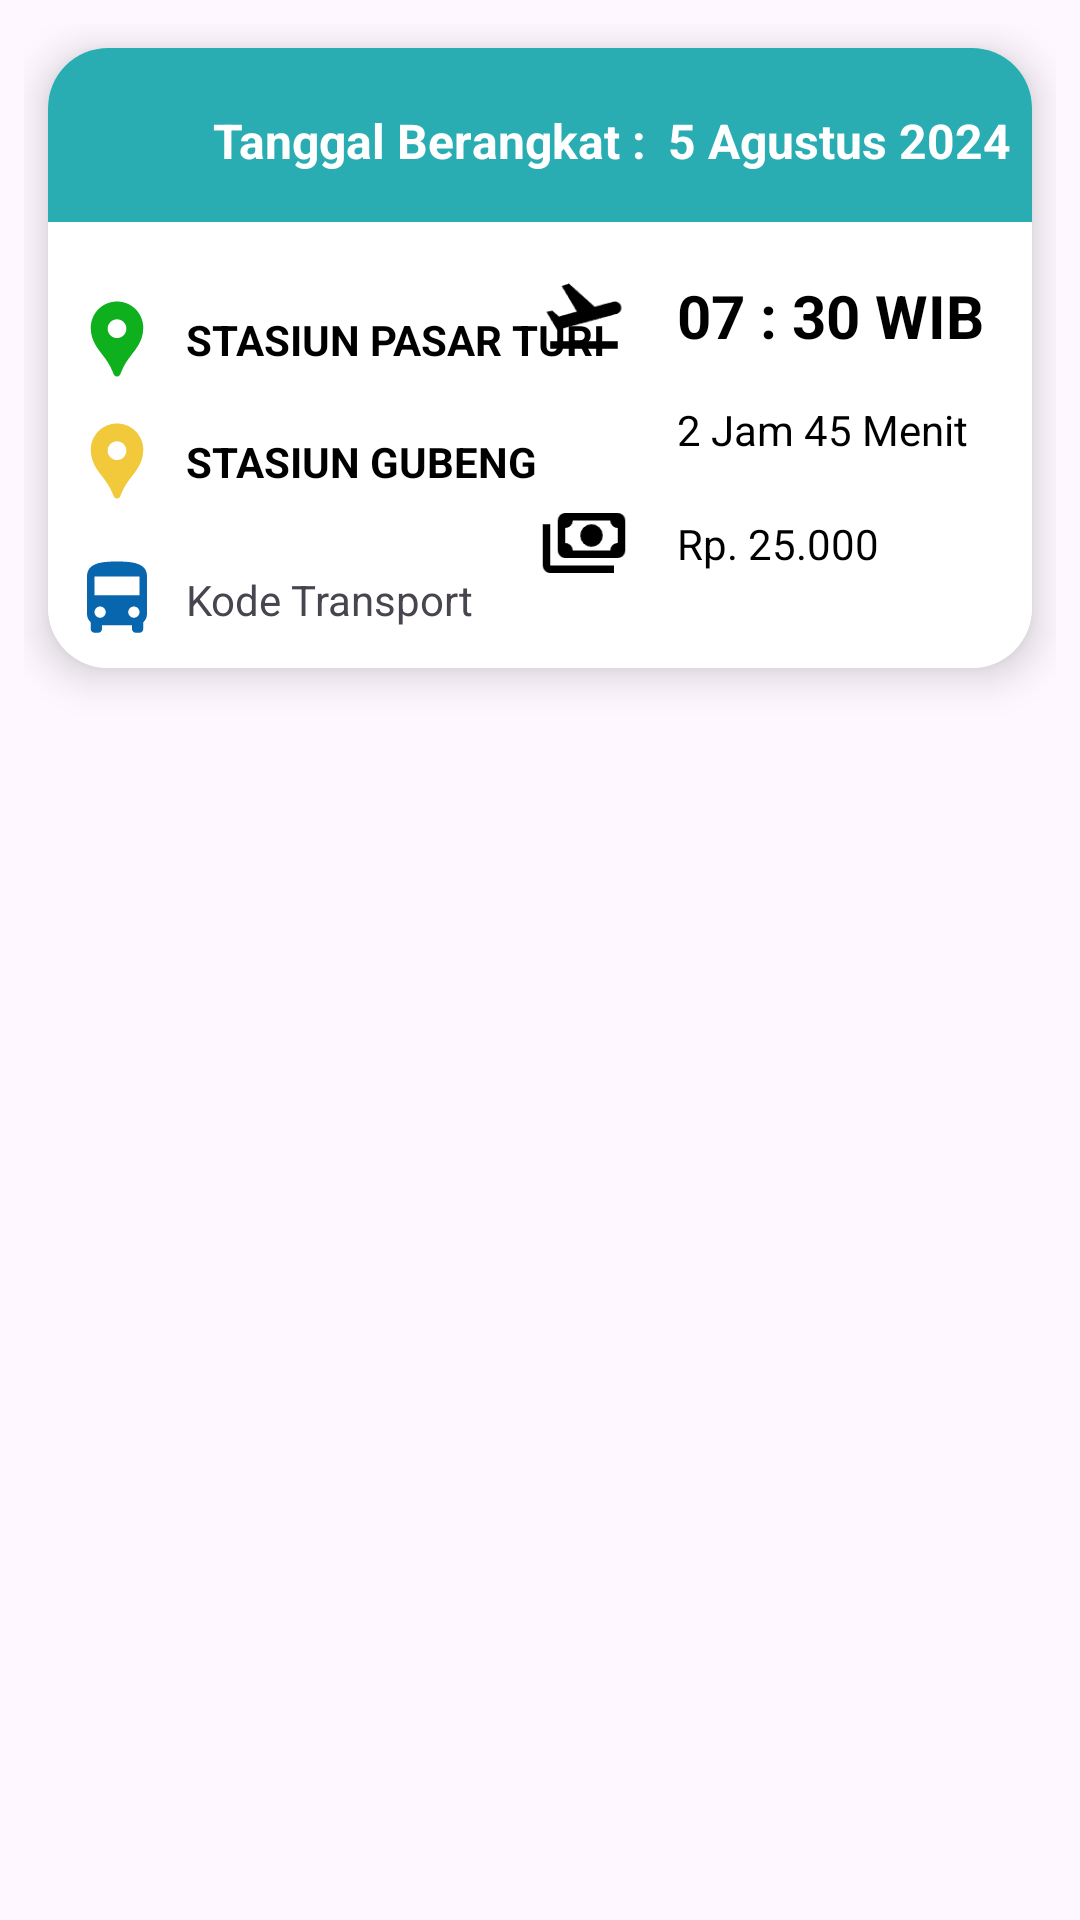

Icon bounding boxes for this 1080*1920 phone screenshot, format (x1, y1, x2, y2):
bus: (87, 561, 147, 633)
location asal: (90, 301, 144, 377)
location tujuan: (90, 423, 144, 499)
payment: (542, 513, 626, 573)
